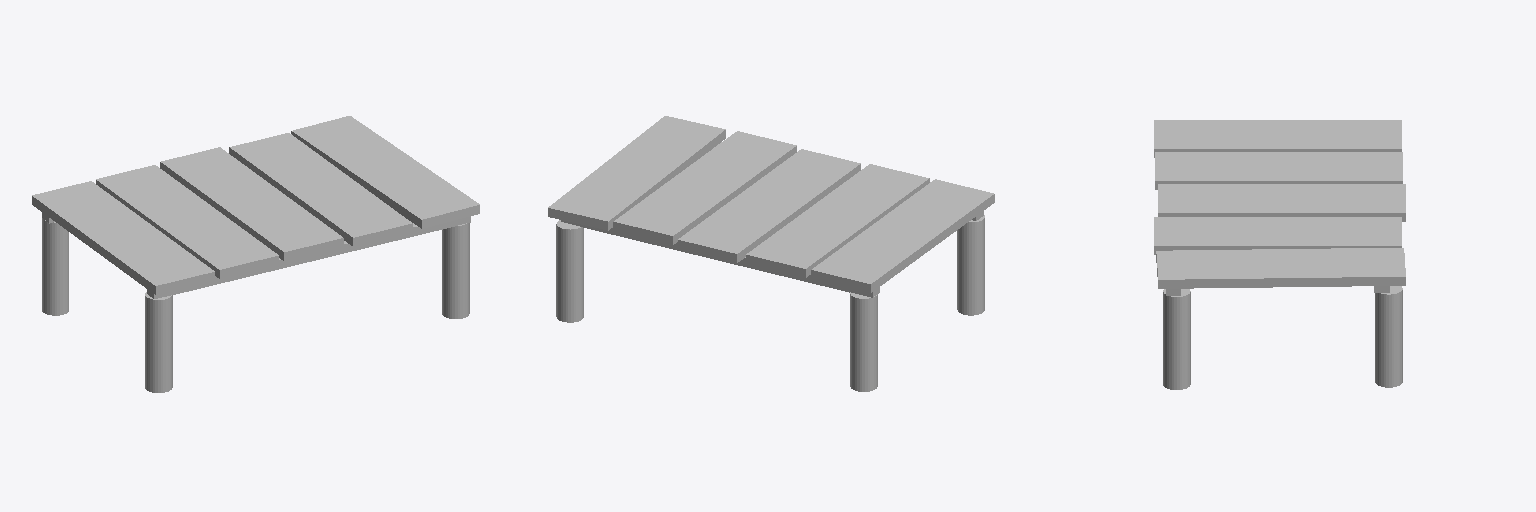
The model's file is Wood_Flat.obj.
The picture shows the model from 3 angles: view 1: azimuth 30°, elevation 25°; view 2: azimuth 150°, elevation 25°; view 3: azimuth 270°, elevation 25°; orthographic projection.
Visible parts, largest first — view 1: 큐브.003_큐브.006; view 2: 큐브.003_큐브.006; view 3: 큐브.003_큐브.006.
Part boxes in pixels (left/top/right/bottom): 큐브.003_큐브.006: left=32, top=116, right=479, bottom=392; 큐브.003_큐브.006: left=548, top=116, right=994, bottom=391; 큐브.003_큐브.006: left=1154, top=120, right=1405, bottom=389.
Bounding box in the file's own units: 4.24 × 1.39 × 2.84.